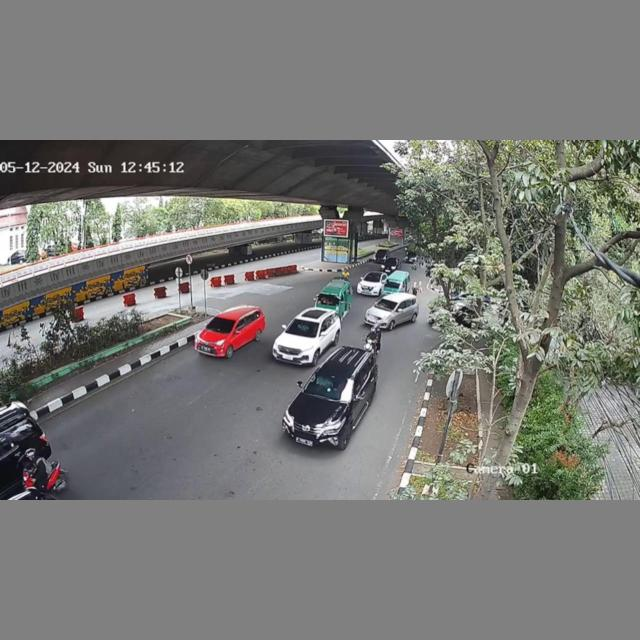windshield: (301, 372, 356, 399), (285, 318, 321, 337), (207, 317, 235, 334)
